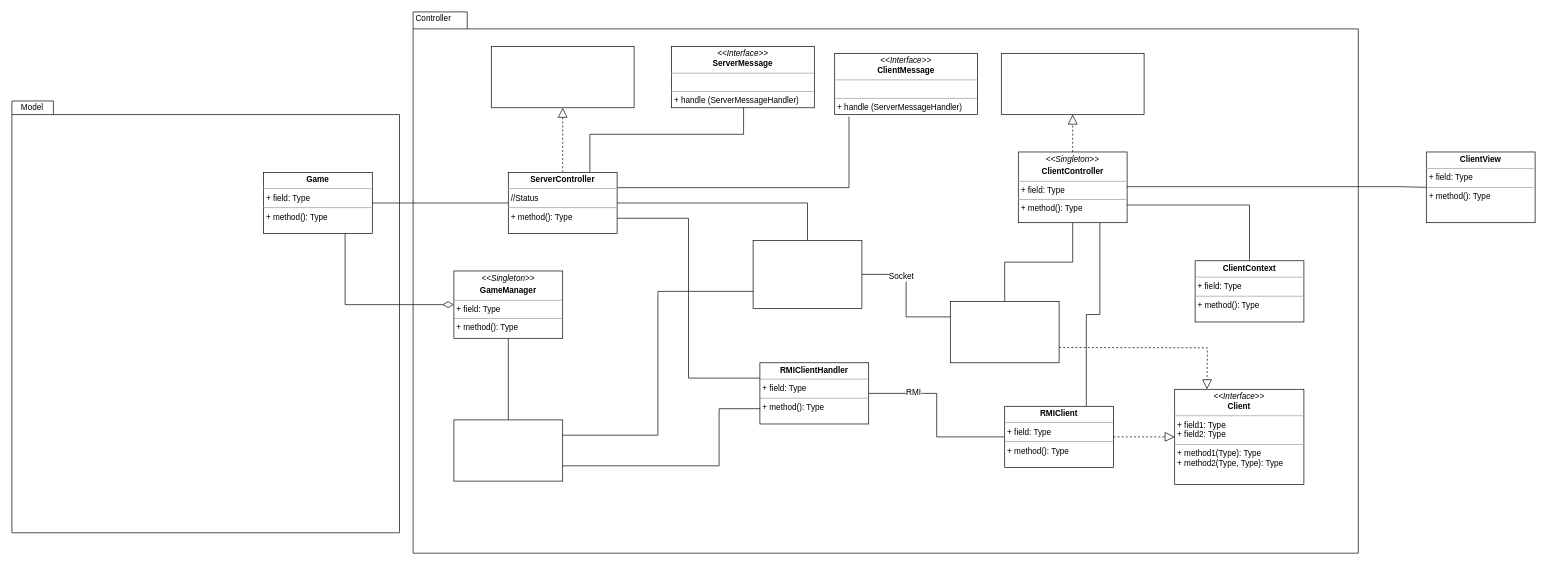
The diagram is 1547 pixels wide and 565 high, and some of its shapes have lost their labels. The centre of each missing label's shape, as x and y in pixels:
<<Interface>> ClientMessageHandler //handle for all ClientMessage: the point at 562,77
<<Interface>> ServerMessageHandler //handle for all ServerMessage: the point at 1072,84
<<Runnable>> SocketClientHandler + field: Type + method(): Type: the point at 807,274
GameServer + field: Type + method(): Type: the point at 508,450
SocketClient + field: Type + method(): Type: the point at 1004,332
